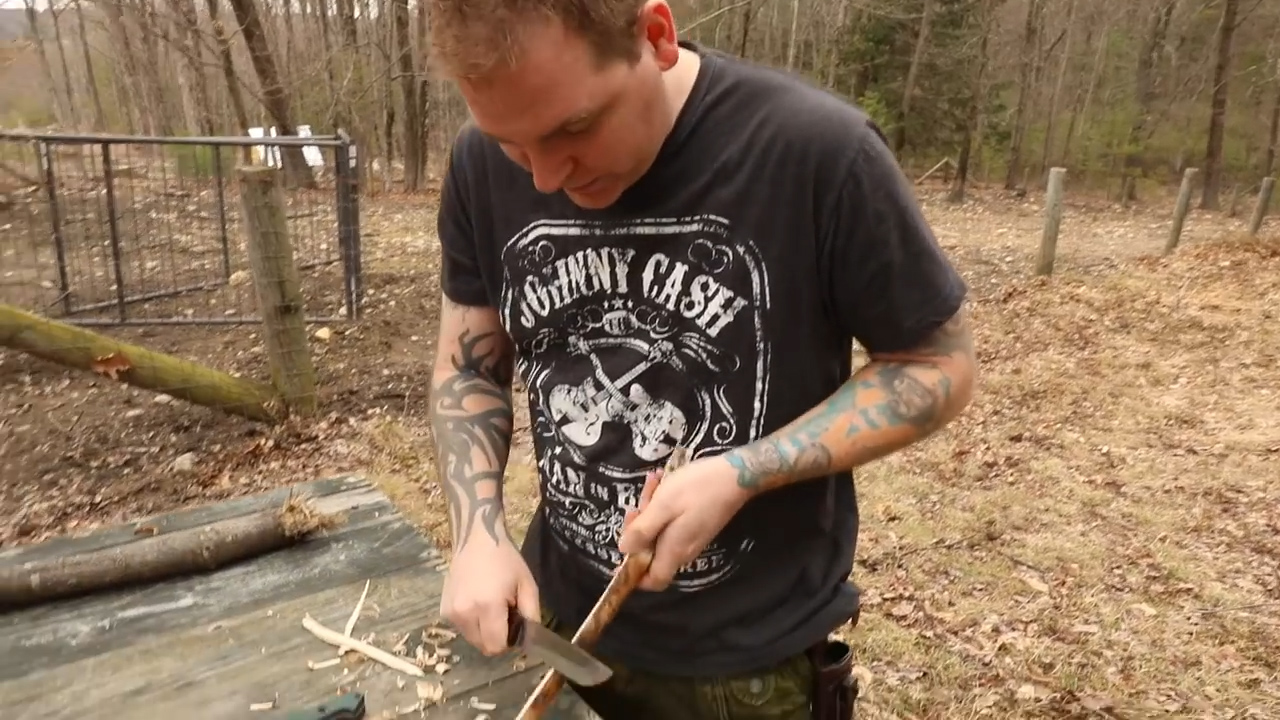knife: (435, 574, 625, 700)
